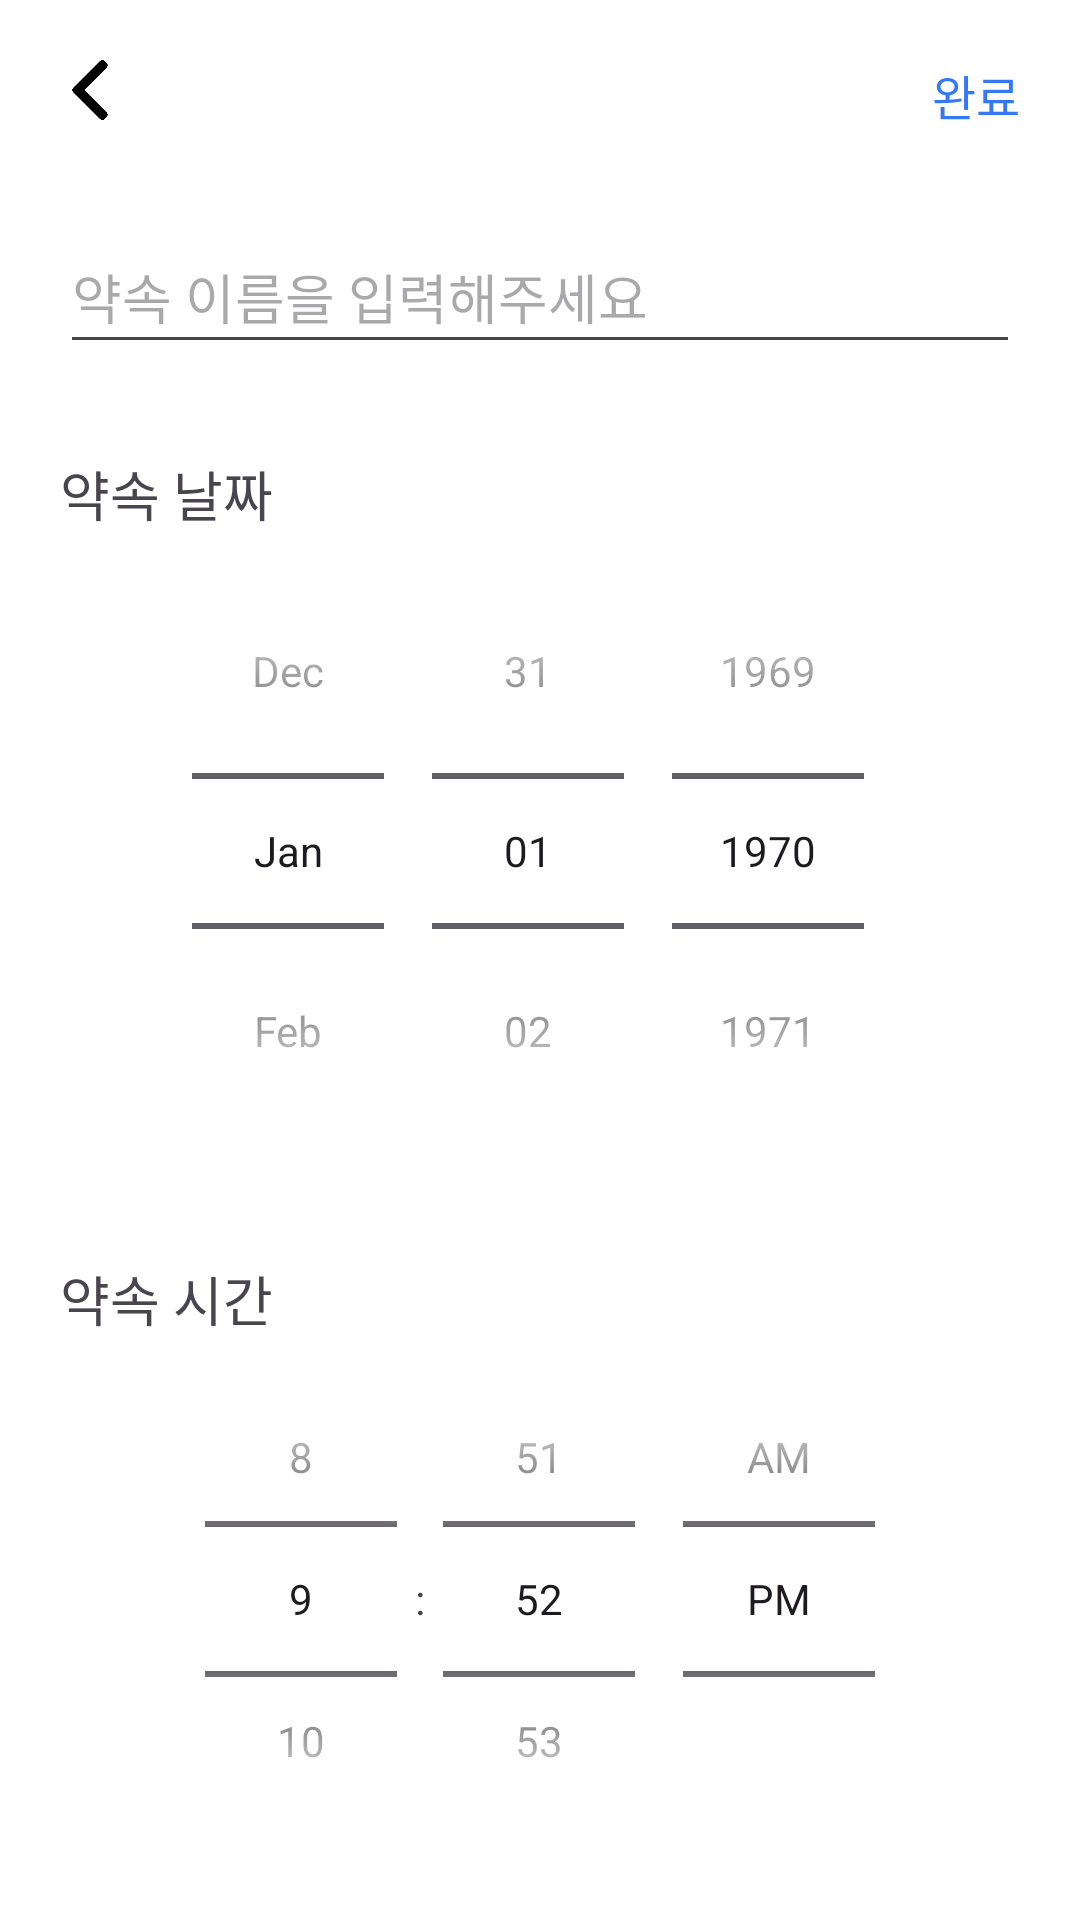

Named icons in this screenshot (1080px×1920px) and their bounding boxes, rect(x1, y1, x2, y2):
left arrow: rect(72, 60, 108, 120)
